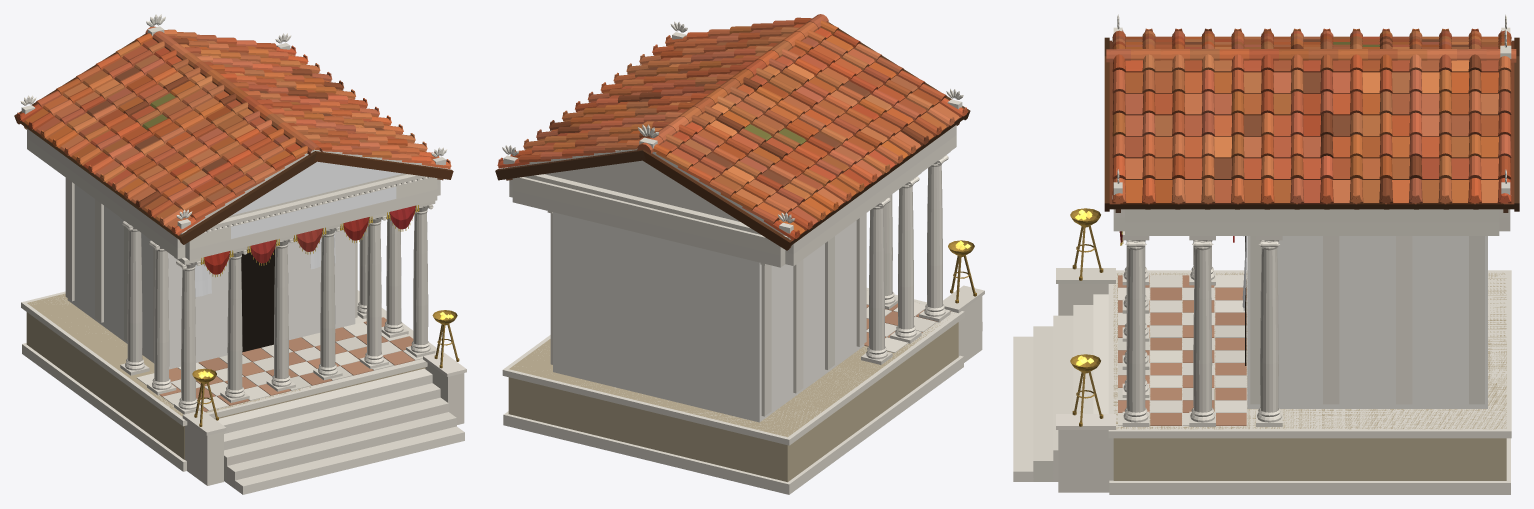
File: mon_temple.glb
3 renders of one model, left to right at view 1: azimuth 30°, elevation 25°; view 2: azimuth 150°, elevation 25°; view 3: azimuth 270°, elevation 25°, orthographic. The views are drawn at different scales.
Visible parts, largest first — view 1: House; view 2: House; view 3: House.
Boxes of the visible parts, x1,y1,x2,y2 form: House: [14, 14, 466, 494]; House: [495, 14, 984, 494]; House: [1013, 14, 1519, 494].
Bounding box in the file's own units: 5.34 × 5.72 × 6.83.
Materials: 9 (9 with a texture image).
